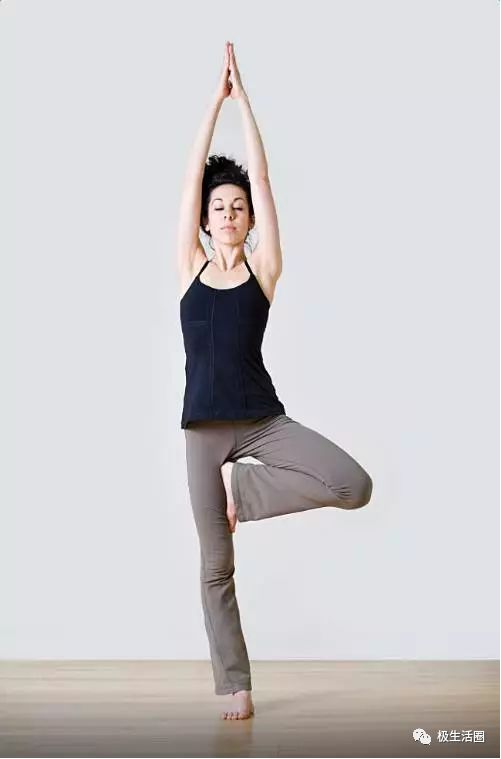handsup: (170, 27, 374, 726)
